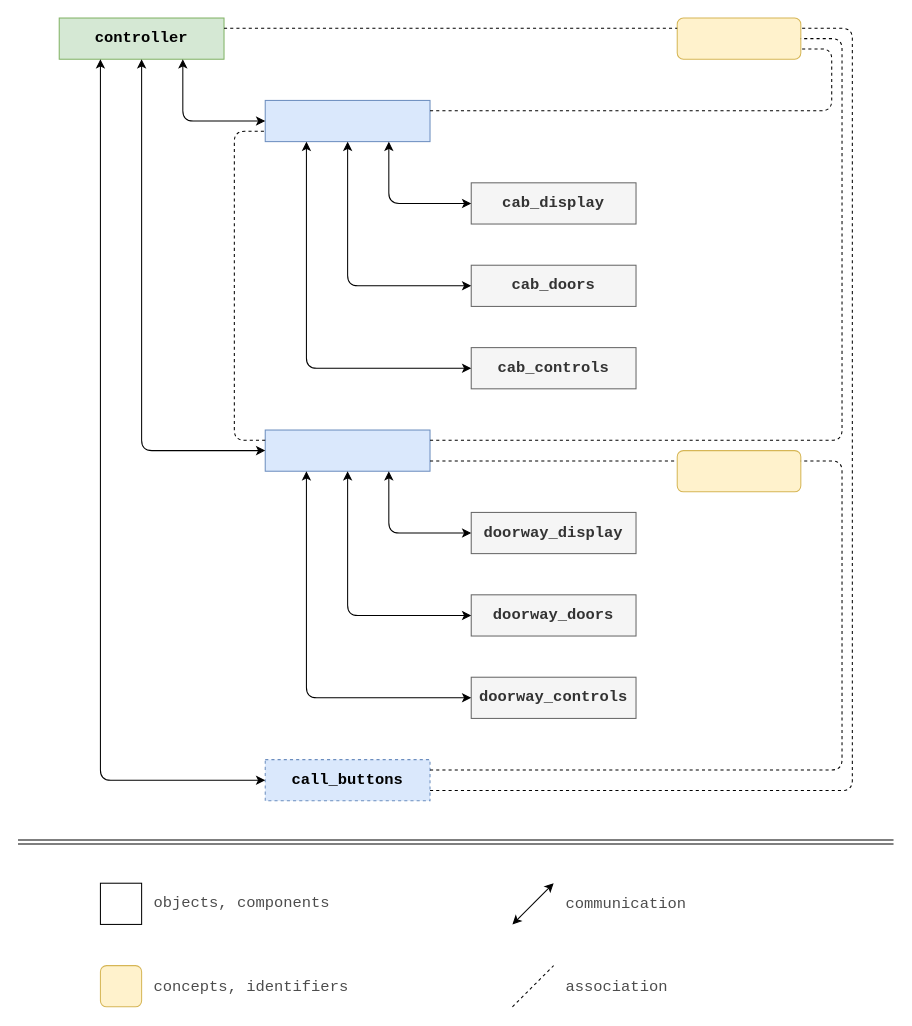
Some shapes in this 912 by 1026 pixel diagram are drawn without their labels. The box of each missing label's shape, as (x1, y1, x2, y2) in pixels:
bank: (676, 17, 801, 59)
cab: (264, 99, 430, 142)
doorway: (264, 429, 430, 471)
floor: (676, 450, 801, 492)
